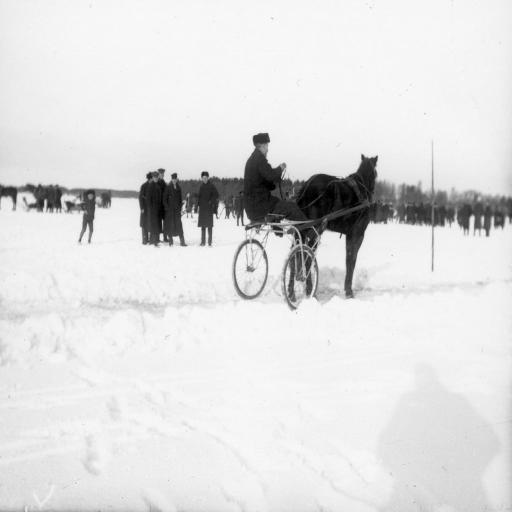Horse: (286, 154, 378, 300)
